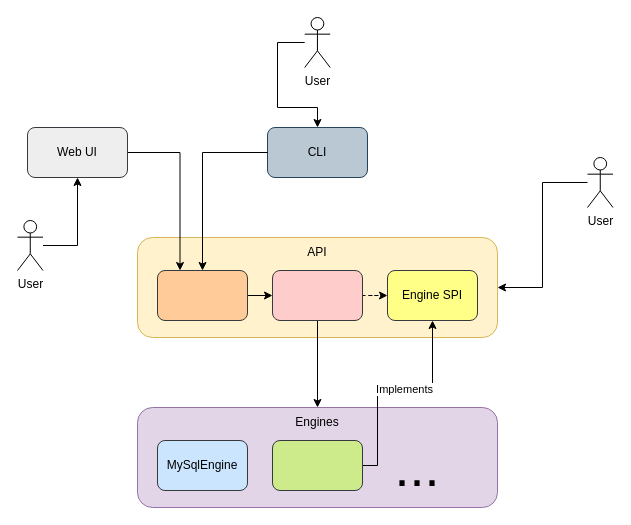
Some shapes in this 631 by 525 pixel diagram are drawn without their labels. Here are the shapes that lost their labels. From the top down, the centre of each, then its label:
pixel 202 295: Client
pixel 317 295: Registry
pixel 317 465: MongoEngine
